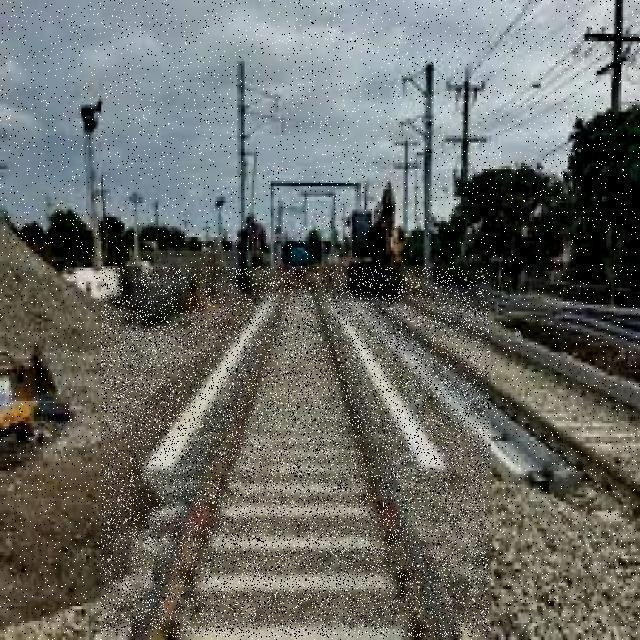rail: (102, 269, 490, 638), (367, 291, 640, 537)
